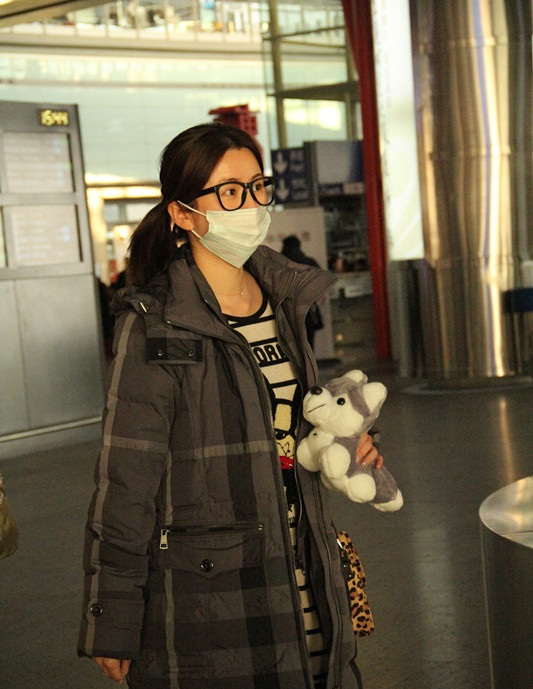face_mask: (196, 145, 268, 259)
